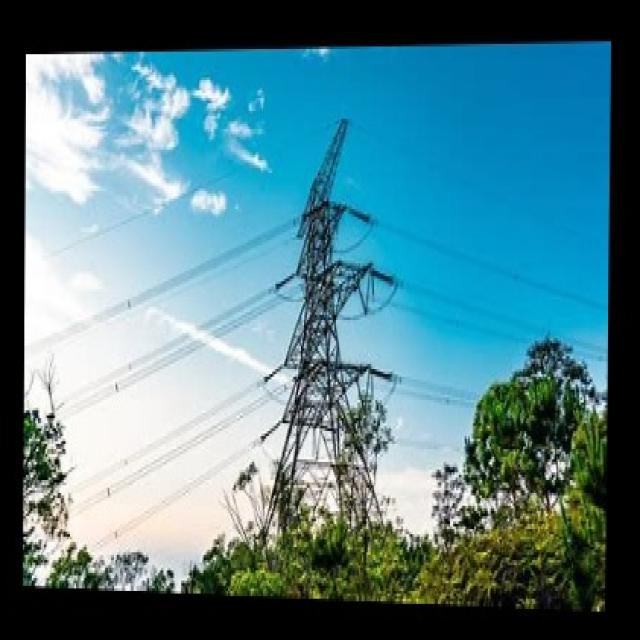utility poles: (453, 305, 586, 502), (307, 371, 396, 531)
